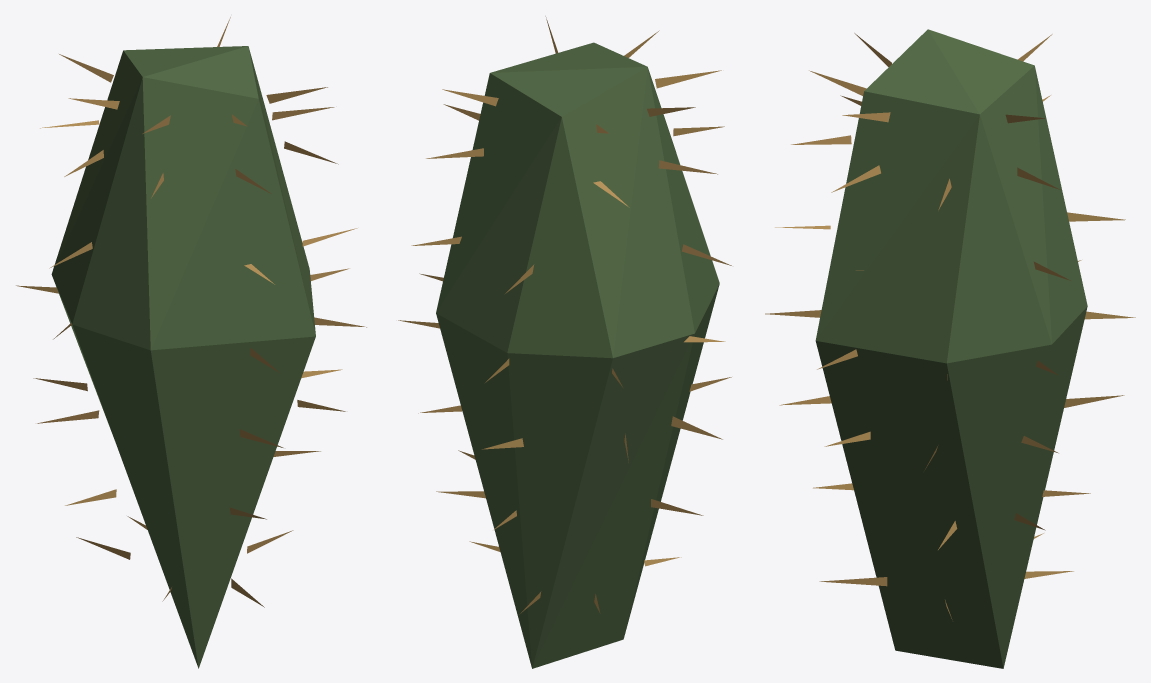
File: Cactus_1.lod2.glb
3 views of the same model, side by side, from view 1: azimuth 30°, elevation 25°; view 2: azimuth 150°, elevation 25°; view 3: azimuth 270°, elevation 25° (orthographic).
Parts seen in each view (by area): view 1: Cactus_1; view 2: Cactus_1; view 3: Cactus_1.
Part boxes in pixels (<box>): Cactus_1: <box>16,17,366,668</box>; Cactus_1: <box>398,16,731,668</box>; Cactus_1: <box>765,29,1135,668</box>.
Bounding box in the file's own units: 0.5497 × 0.9986 × 0.5629.
